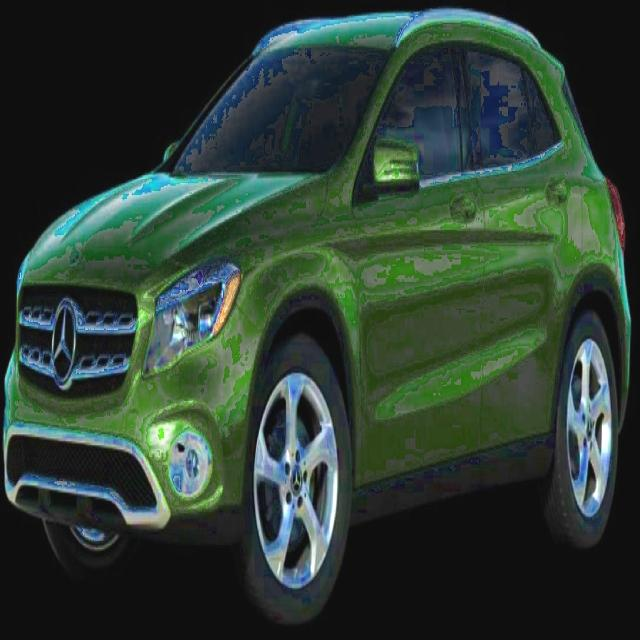green: (0, 17, 627, 626)
